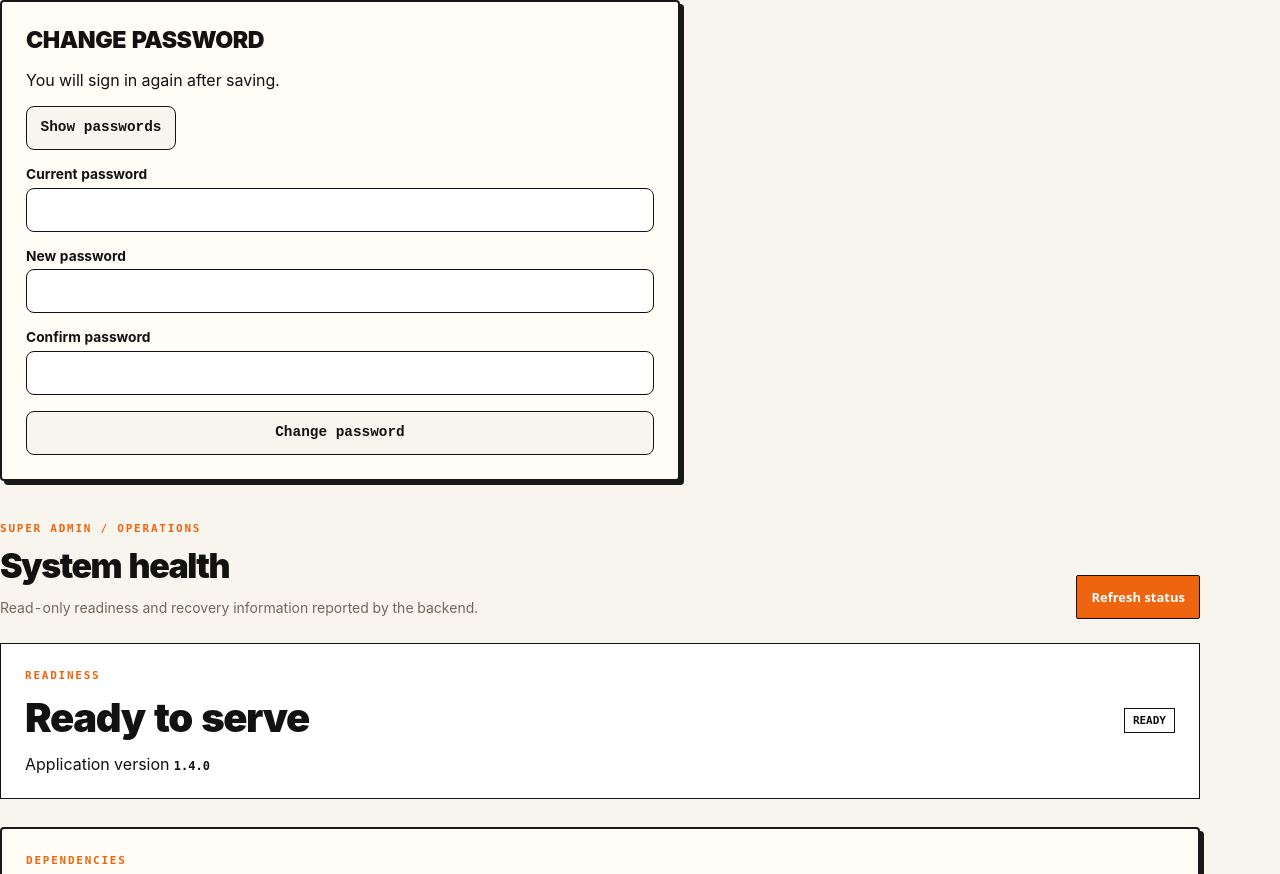
Test: Super Admin system health › hides cached system details when a refresh loses authorization
Check: the heading "Ready to serve" is shown, box x1=25 y1=693 x2=309 y2=742
Click the button "Refresh status" at (1138, 597), box x1=1076 y1=575 x2=1200 y2=619
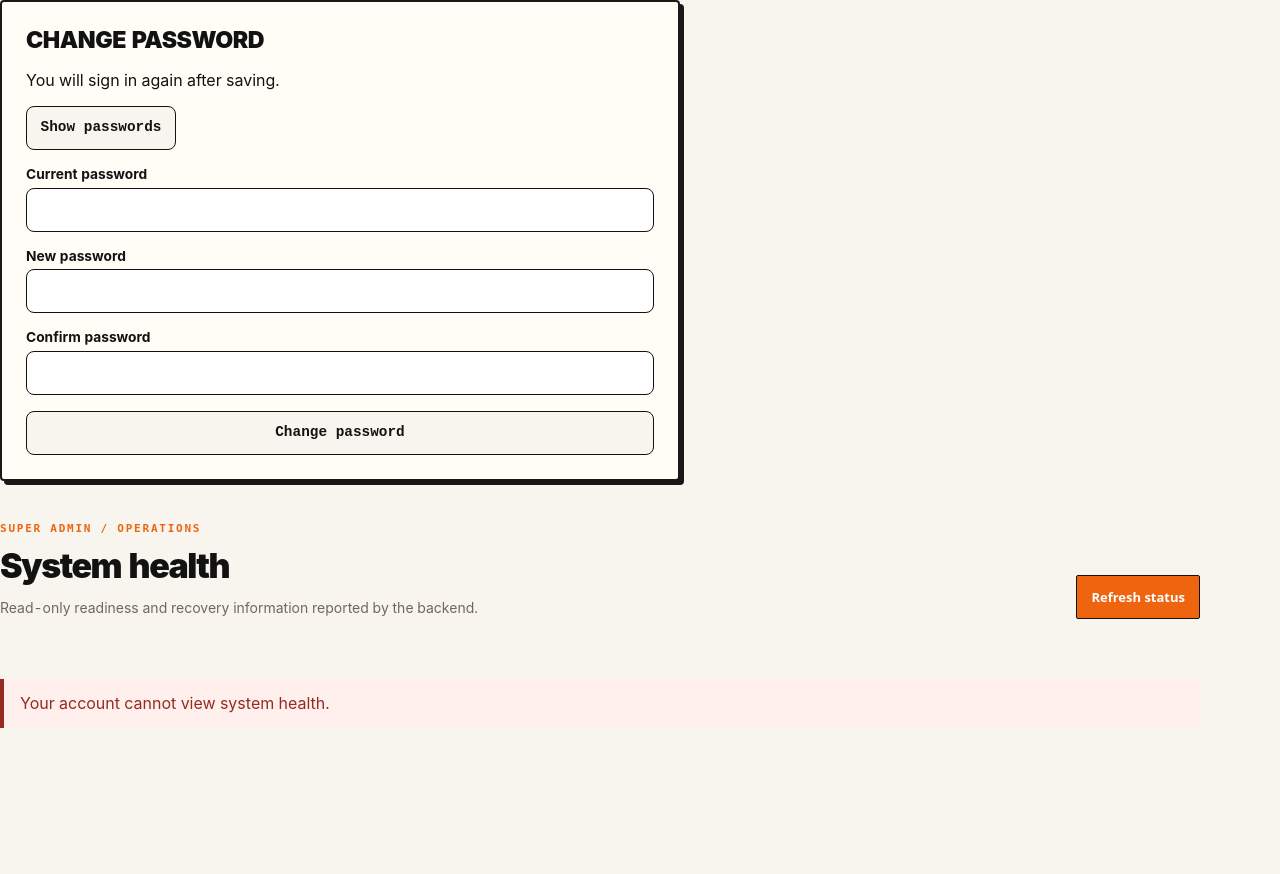
Check: the message reads "Your account cannot view system health.", box x1=20 y1=693 x2=330 y2=713
Check: the heading "Ready to serve" is gone
